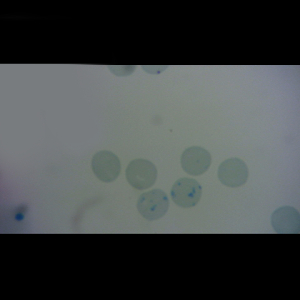aggregate reticulocyte: (137, 188, 170, 221), (169, 177, 204, 208)
erythrocyte: (215, 156, 250, 189), (90, 150, 123, 184), (124, 159, 159, 190)
punctate reticulocyte: (179, 145, 213, 177)
